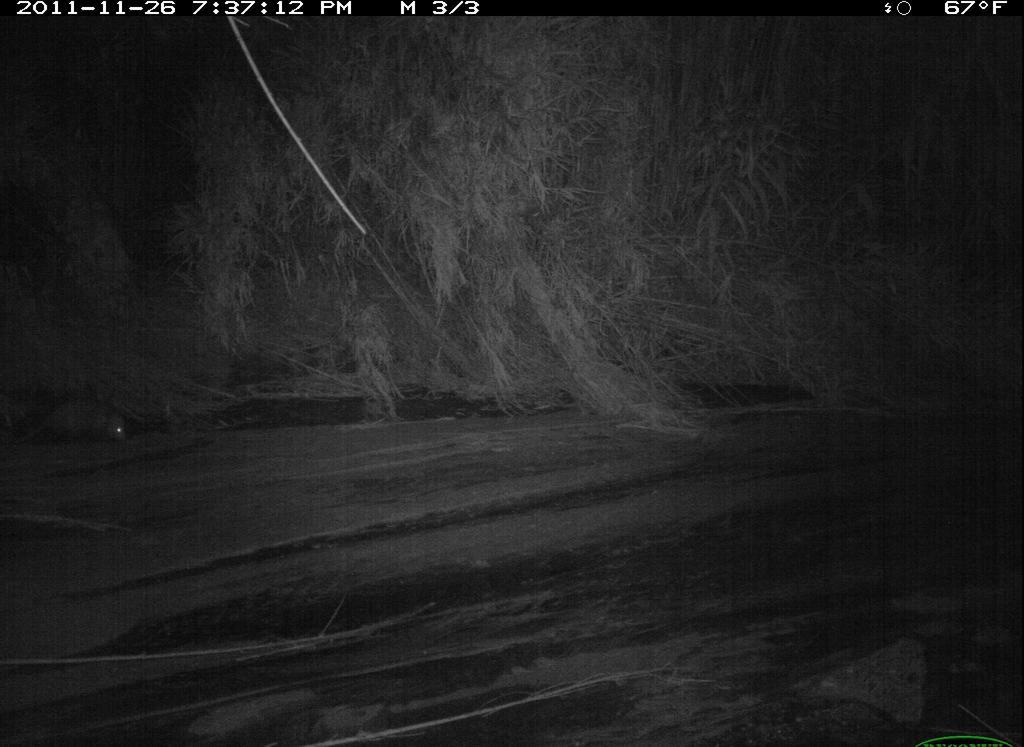opossum: (3, 395, 143, 450)
